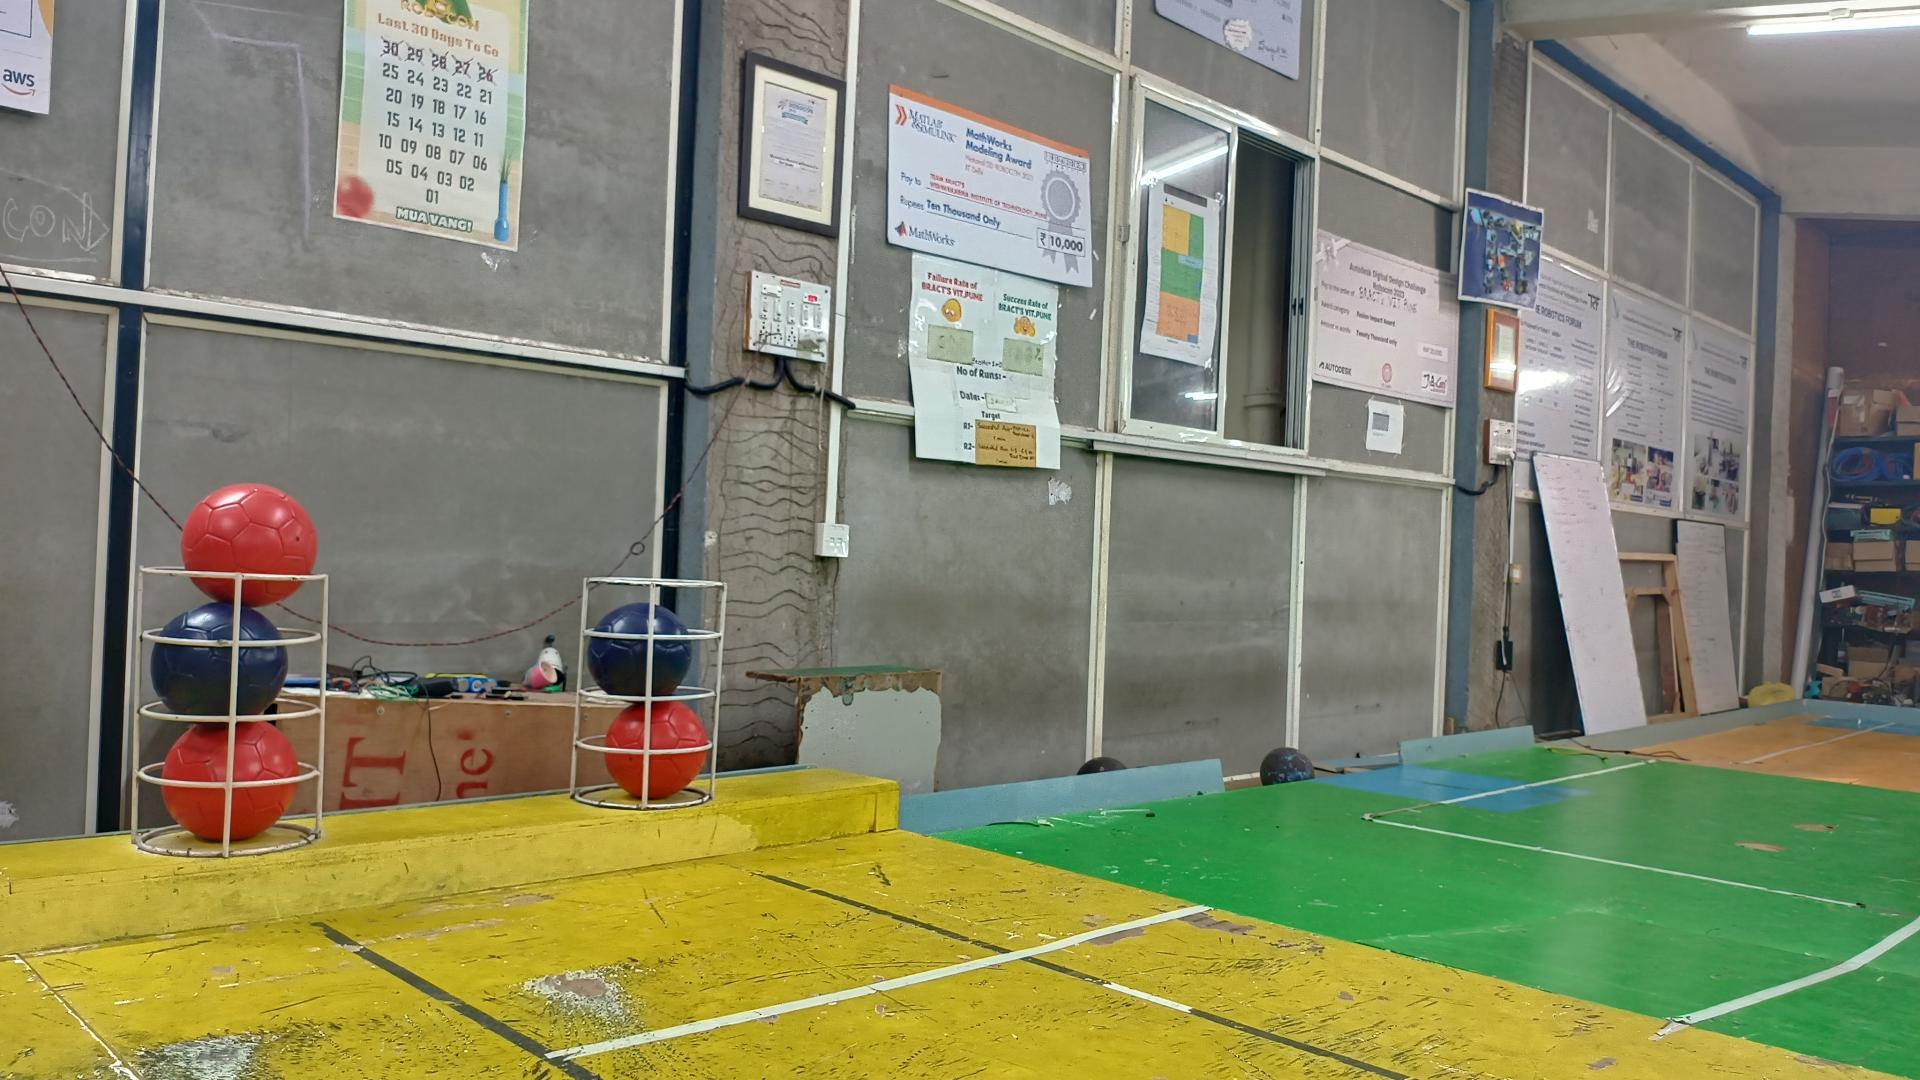dhoka: (152, 604, 290, 716), (587, 604, 691, 698)
laale: (178, 485, 316, 609), (160, 723, 298, 839), (604, 702, 708, 802)
